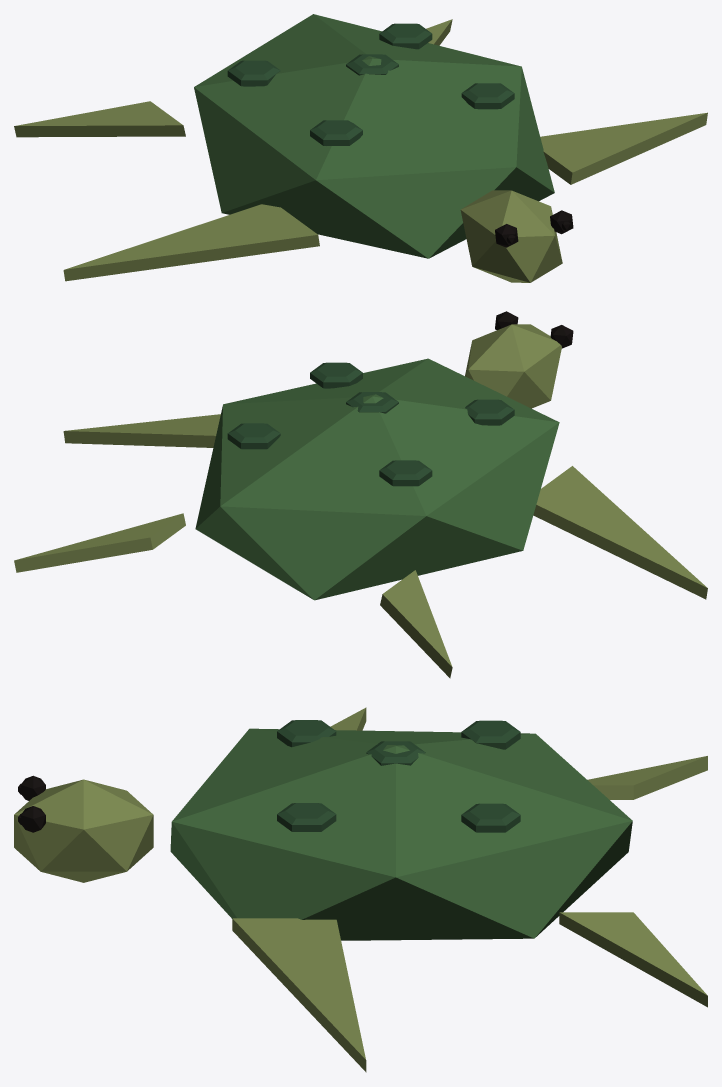
File: animal_sea_turtle.glb
3 views of the same model, one above another, from view 1: azimuth 30°, elevation 25°; view 2: azimuth 150°, elevation 25°; view 3: azimuth 270°, elevation 25° (orthographic). The views are drawn at different scales.
Visible parts, largest first — view 1: animal_sea_turtle; view 2: animal_sea_turtle; view 3: animal_sea_turtle.
Boxes of the visible parts, box(x1,y1,x2,y2) form: animal_sea_turtle: box(14, 14, 707, 282); animal_sea_turtle: box(14, 311, 707, 678); animal_sea_turtle: box(14, 707, 707, 1072).
Size of the model in its own units: 2.81 by 0.6605 by 2.33.
